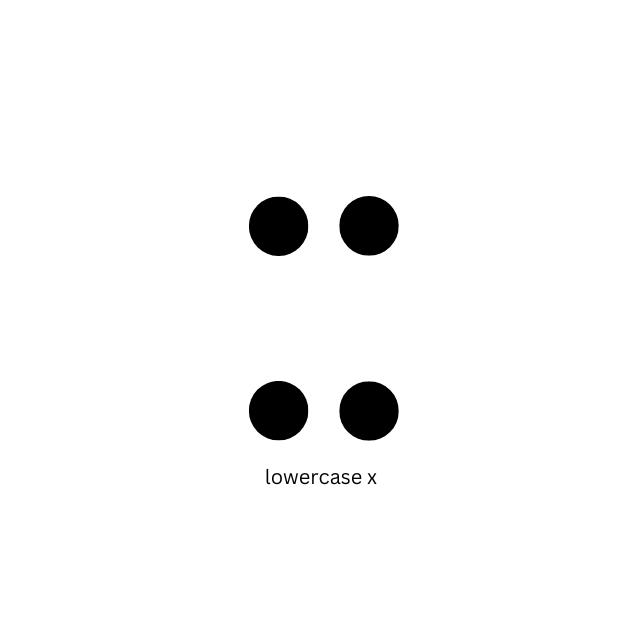letter_x: (248, 195, 400, 441)
